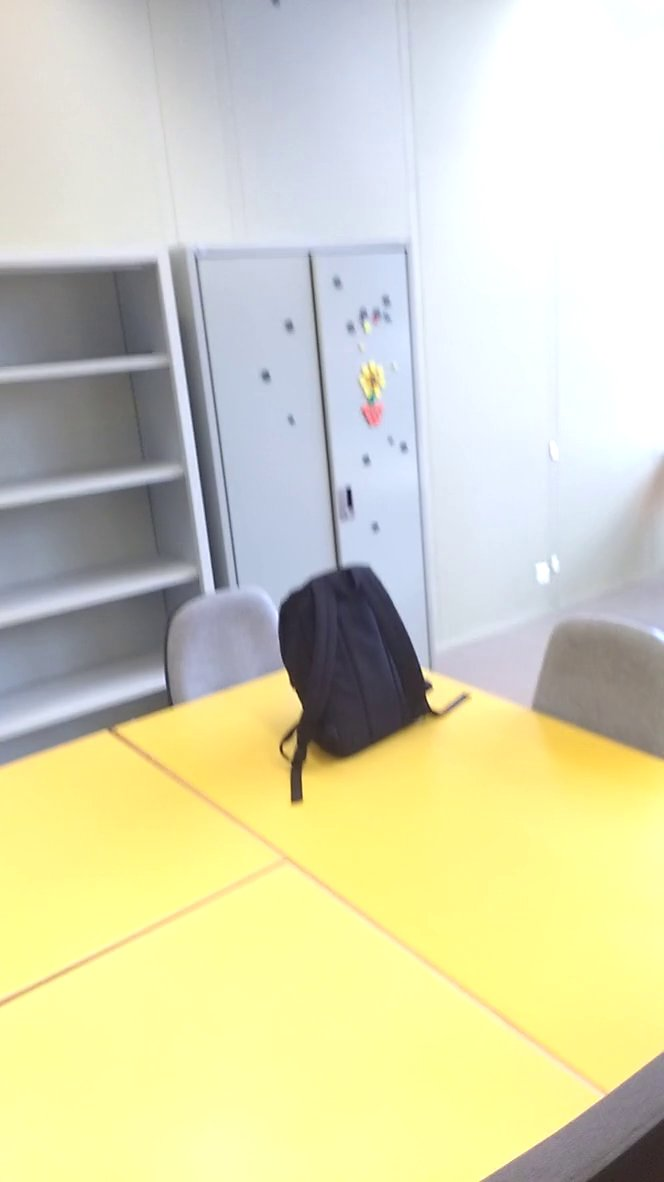bag: (279, 557, 492, 806)
chair: (507, 594, 664, 774), (152, 574, 296, 739)
